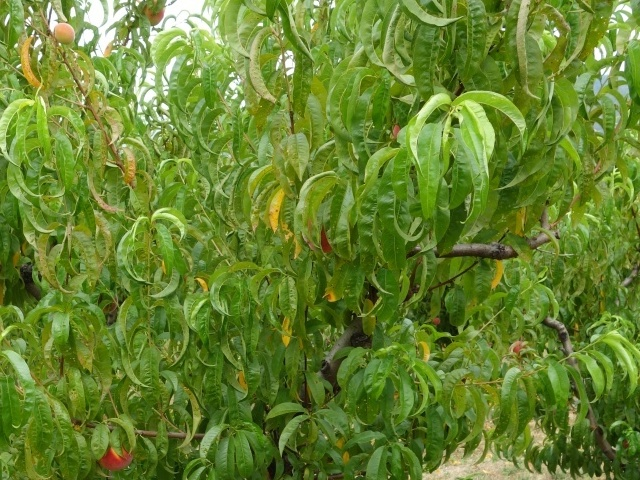peach: (91, 435, 135, 474), (303, 223, 336, 257), (50, 19, 77, 50), (140, 1, 168, 29)
